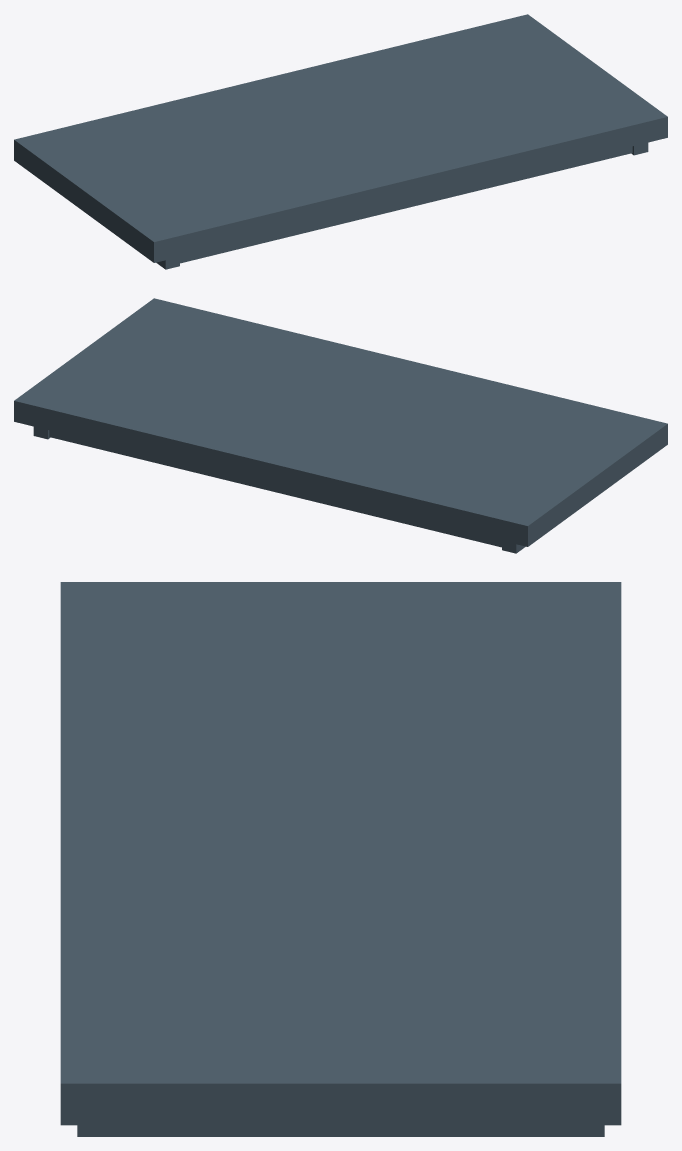
3 renders of one model, top to bottom at view 1: azimuth 30°, elevation 25°; view 2: azimuth 150°, elevation 25°; view 3: azimuth 270°, elevation 25°, orthographic. The views are drawn at different scales.
Visible parts, largest first — view 1: P16-04_Steel; view 2: P16-04_Steel; view 3: P16-04_Steel.
Boxes of the visible parts, x1,y1,x2,y2 form: P16-04_Steel: (14,14,667,269); P16-04_Steel: (14,298,667,553); P16-04_Steel: (60,582,621,1136).
Size of the model in its own units: 1.8 by 0.12 by 0.85.
